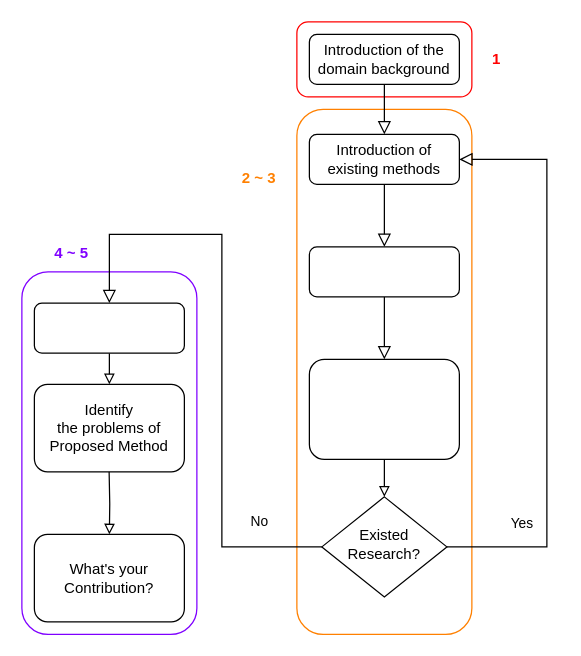
Some shapes in this 581 by 656 pixel diagram are drawn without their labels. Each missing label, with the centre of its shape:
"Identify the problems" belongs at pixel 383 271.
"Introduce the idea of the proposed method to solve the identified problems" belongs at pixel 383 408.
"Proposed Method" belongs at pixel 108 327.
